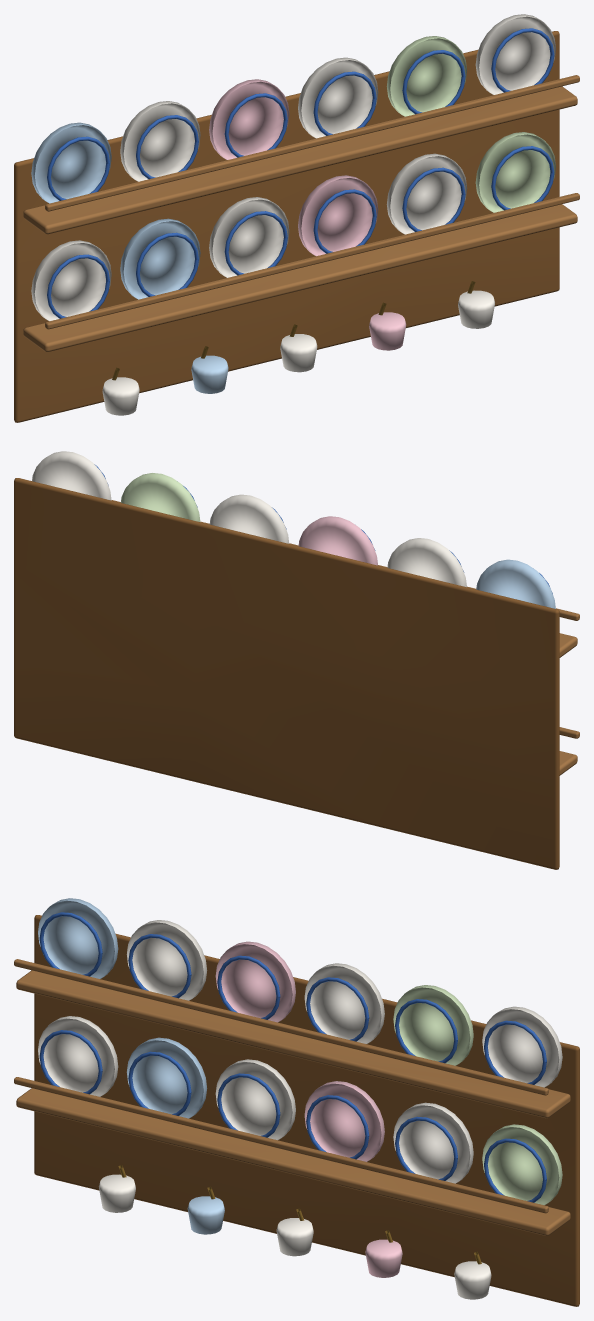
The model's file is furn_plate_rack.glb.
The picture shows the model from 3 angles, top to bottom: view 1: azimuth 30°, elevation 25°; view 2: azimuth 150°, elevation 25°; view 3: azimuth 330°, elevation 25°; orthographic projection.
Visible parts, largest first — view 1: furn_plate_rack_main, furn_plate_rack_gloss; view 2: furn_plate_rack_main, furn_plate_rack_gloss; view 3: furn_plate_rack_main, furn_plate_rack_gloss.
Part boxes in pixels (box(x1,y1,x2,y2)): furn_plate_rack_main: box(14, 31, 579, 422); furn_plate_rack_gloss: box(31, 14, 555, 415); furn_plate_rack_main: box(14, 478, 579, 869); furn_plate_rack_gloss: box(32, 451, 555, 608); furn_plate_rack_main: box(14, 915, 579, 1306); furn_plate_rack_gloss: box(38, 898, 562, 1299).
Size of the model in its own units: 1.84 by 0.94 by 0.17.
